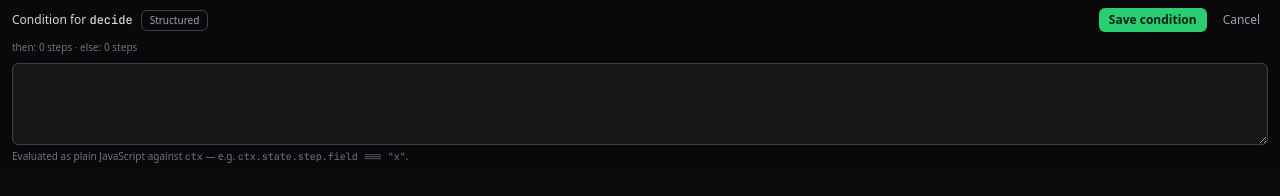
BranchEditor — upstream picker › picking an upstream field inserts an unprefixed ctx expression
This screenshot has width=1280, height=196.
What coordinates should you click on to do the following:
click the button "Structured"
I would click on:
 (174, 20)
Its box is [141,10,208,30].
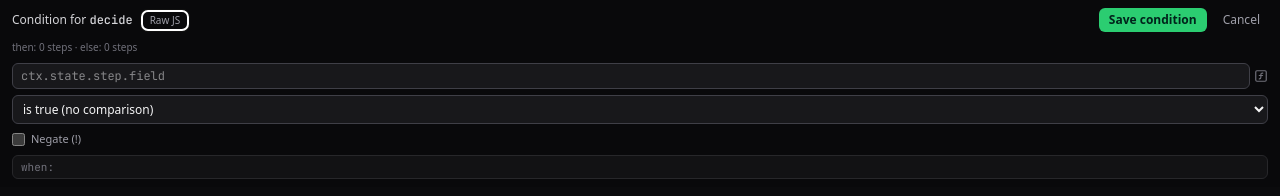
What coordinates should you click on to do the following:
click the button titled "Insert a value from an upstream step"
I would click on:
 (1261, 76)
Its box is [1254,69,1268,83].
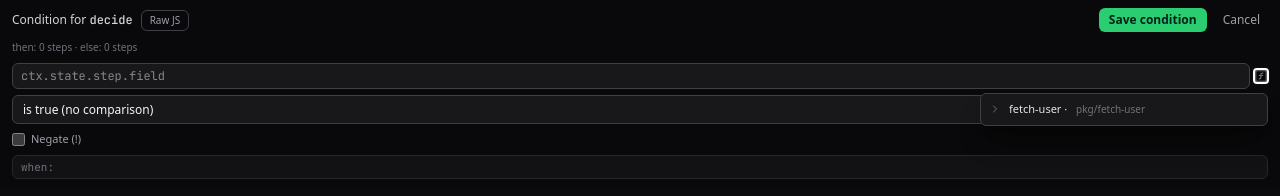
What coordinates should you click on to do the following:
click the button named "Expand fetch-user"
I would click on:
 (995, 109)
Its box is [985,99,1005,119].
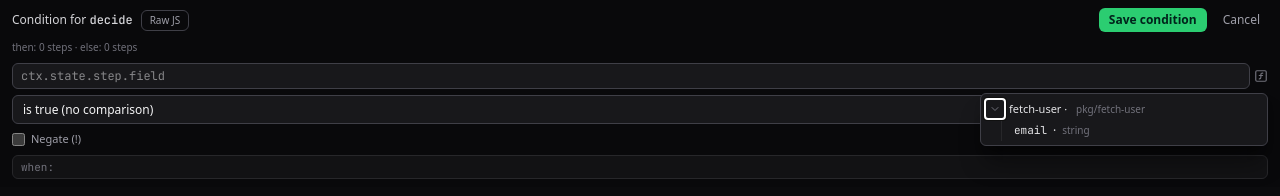
What coordinates should you click on to do the following:
click the button "email · string"
I would click on:
 (1136, 131)
Its box is [1010,121,1263,141].
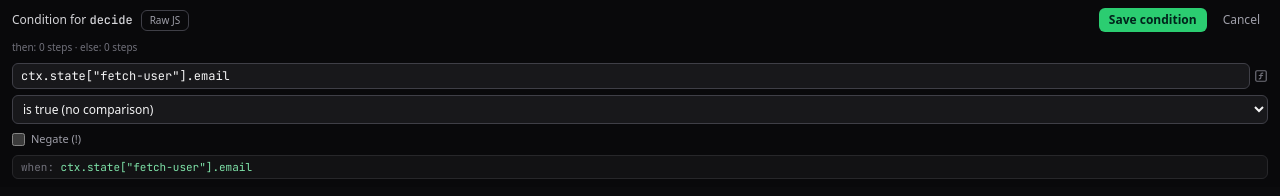
expect the field named "Left operand" holds "ctx.state[\"fetch-user\"].email": met, box [12,63,1250,89]
